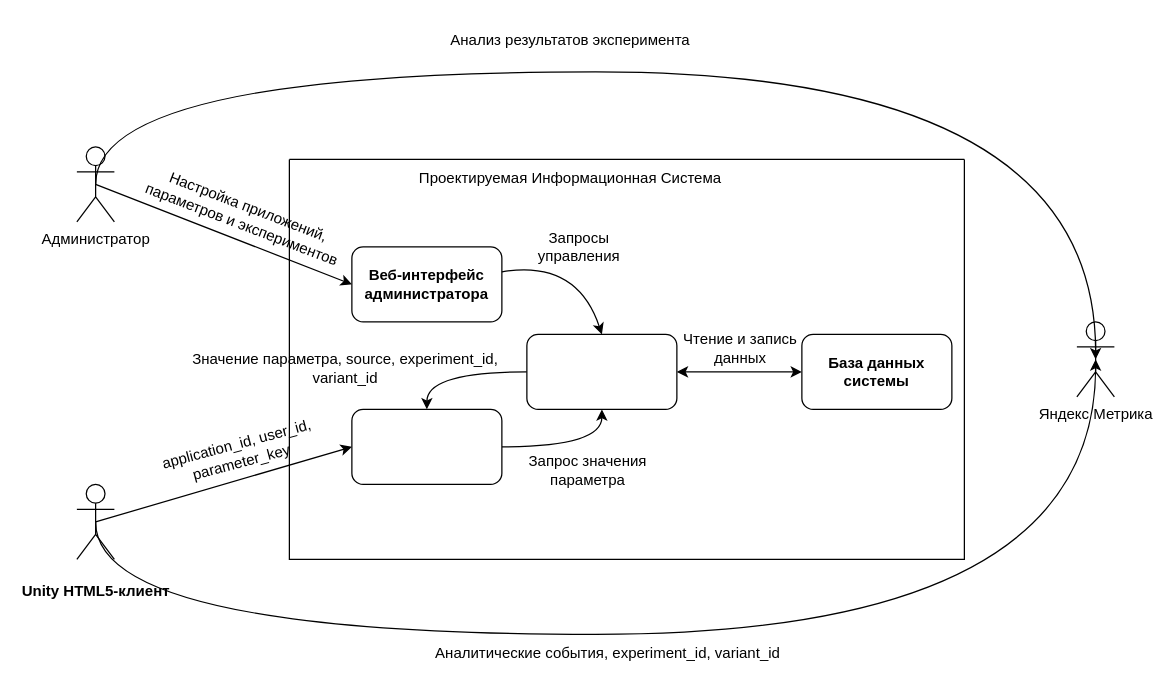
The diagram is 1174 pixels wide and 698 high, and some of its shapes have lost their labels. Here are the shapes that lost their labels. From the top down, the centre of each, then its label:
At point 601,371: "Серверное приложение".
At point 426,446: "API выдачи параметров".
